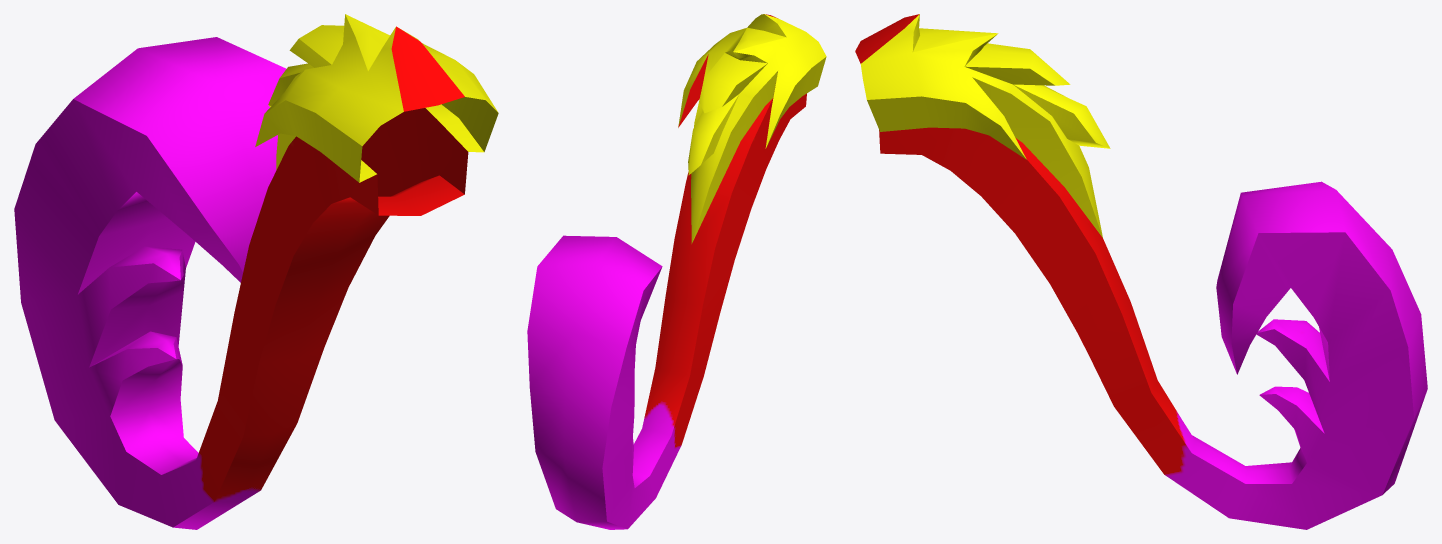
Rendered from tufted.glb.
The picture shows the model from 3 angles, left to right: view 1: azimuth 30°, elevation 25°; view 2: azimuth 150°, elevation 25°; view 3: azimuth 270°, elevation 25°; orthographic projection. The views are drawn at different scales.
Parts seen in each view (by area): view 1: Tail_4; view 2: Tail_4; view 3: Tail_4.
Boxes of the visible parts, x1,y1,x2,y2 form: Tail_4: (14, 14, 498, 529); Tail_4: (527, 14, 826, 529); Tail_4: (855, 14, 1427, 529).
Size of the model in its own units: 0.2458 by 0.8134 by 0.8268.
1 material, 1 textured.
